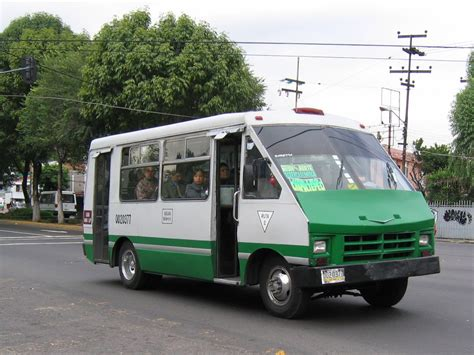bus: (84, 111, 436, 308)
